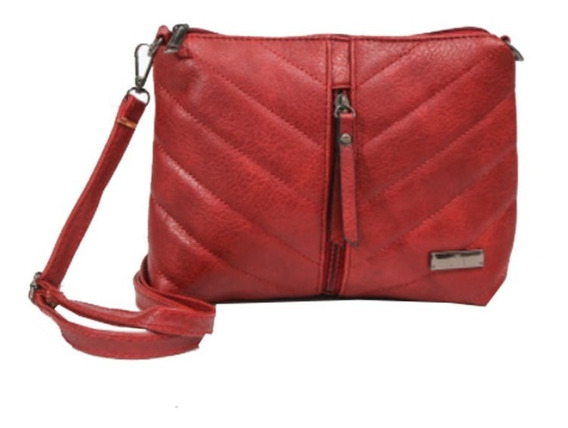cartera: (143, 20, 527, 310)
